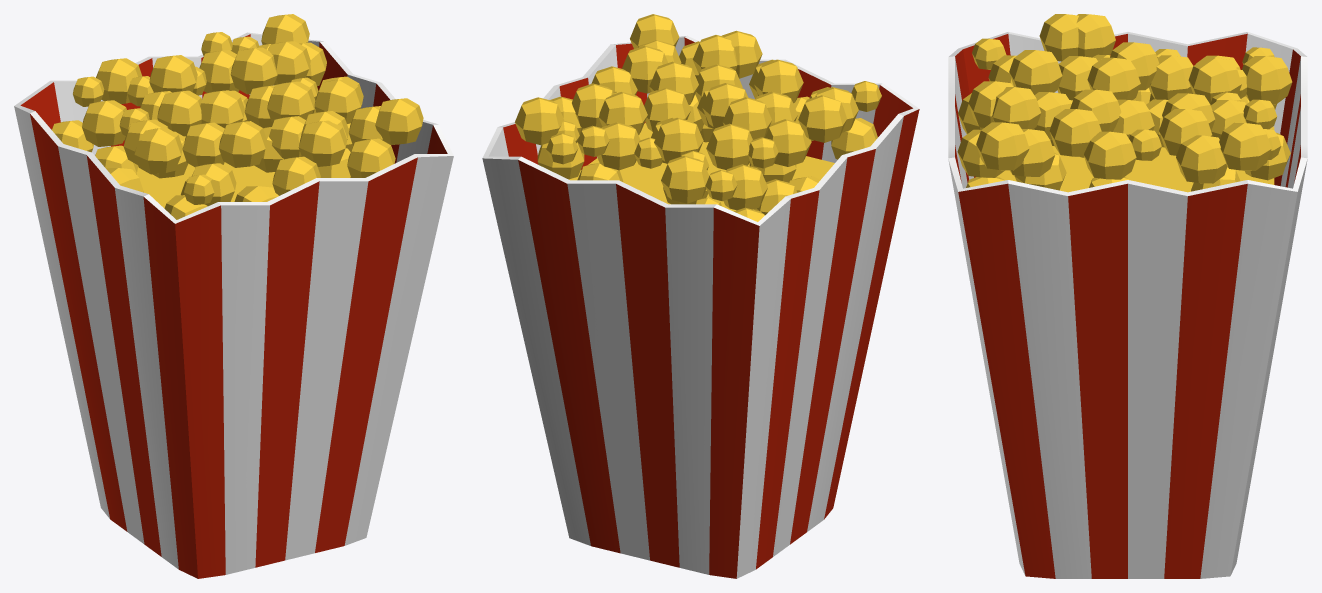
Rendered from popcorn.glb.
3 renders of one model, left to right at view 1: azimuth 30°, elevation 25°; view 2: azimuth 150°, elevation 25°; view 3: azimuth 270°, elevation 25°, orthographic. The views are drawn at different scales.
Visible parts, largest first — view 1: popcorn; view 2: popcorn; view 3: popcorn.
Boxes of the visible parts, x1,y1,x2,y2 form: popcorn: (14, 14, 453, 578); popcorn: (482, 14, 919, 578); popcorn: (948, 14, 1307, 578).
Bounding box in the file's own units: 0.1564 × 0.2232 × 0.1562.
Materials: 1 (1 with a texture image).
